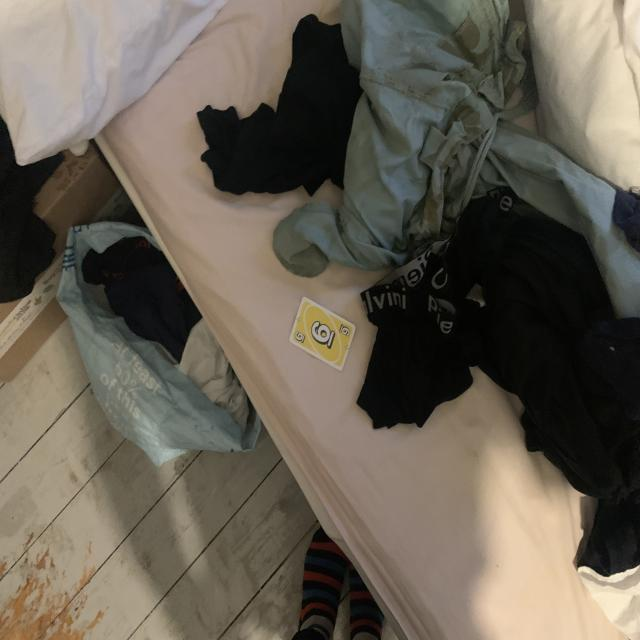lyellow-6: (294, 329, 306, 345)
